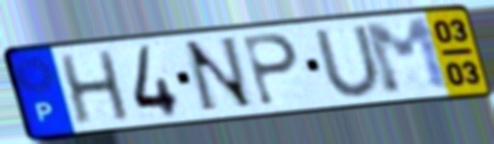4: (130, 42, 182, 120)
H: (56, 47, 135, 127)
M: (358, 14, 456, 98)
N: (180, 34, 259, 117)
P: (239, 32, 302, 109)
U: (310, 22, 388, 99)
